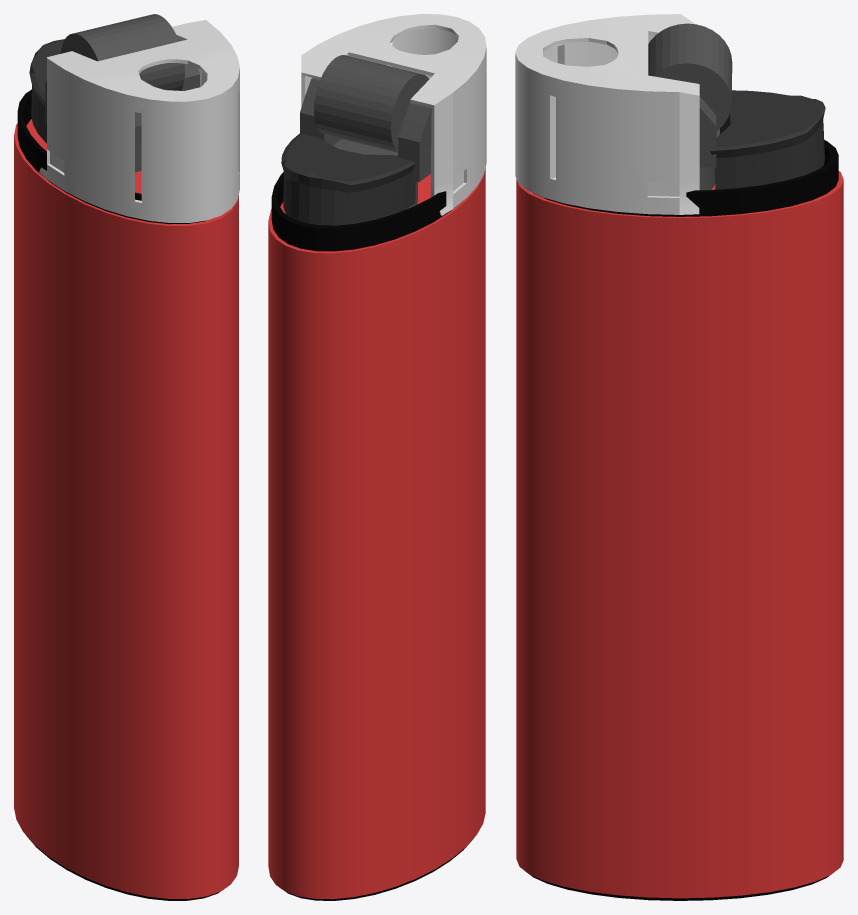
Rendered from Lighter2.fbx.
3 views of the same model, side by side, from view 1: azimuth 30°, elevation 25°; view 2: azimuth 150°, elevation 25°; view 3: azimuth 270°, elevation 25° (orthographic). The views are drawn at different scales.
Parts seen in each view (by area): view 1: Lighter2; view 2: Lighter2; view 3: Lighter2.
Part boxes in pixels (bbox=[...]): Lighter2: bbox=[14, 14, 239, 900]; Lighter2: bbox=[268, 14, 486, 900]; Lighter2: bbox=[515, 14, 843, 900].
Bounding box in the file's own units: 147 × 719 × 261.
